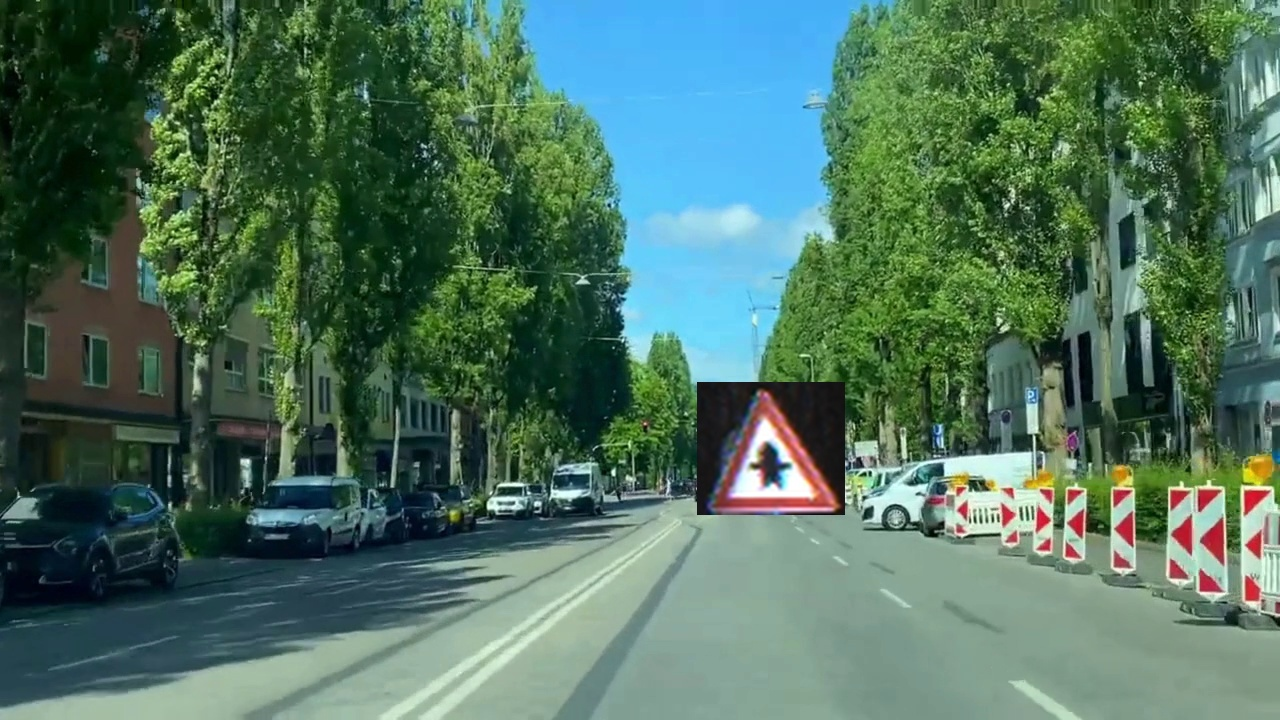Right-of-way: (697, 382, 845, 515)
